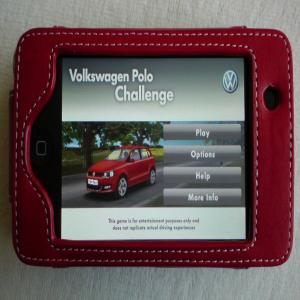Vehicle-registration-plate: (90, 180, 98, 188)
